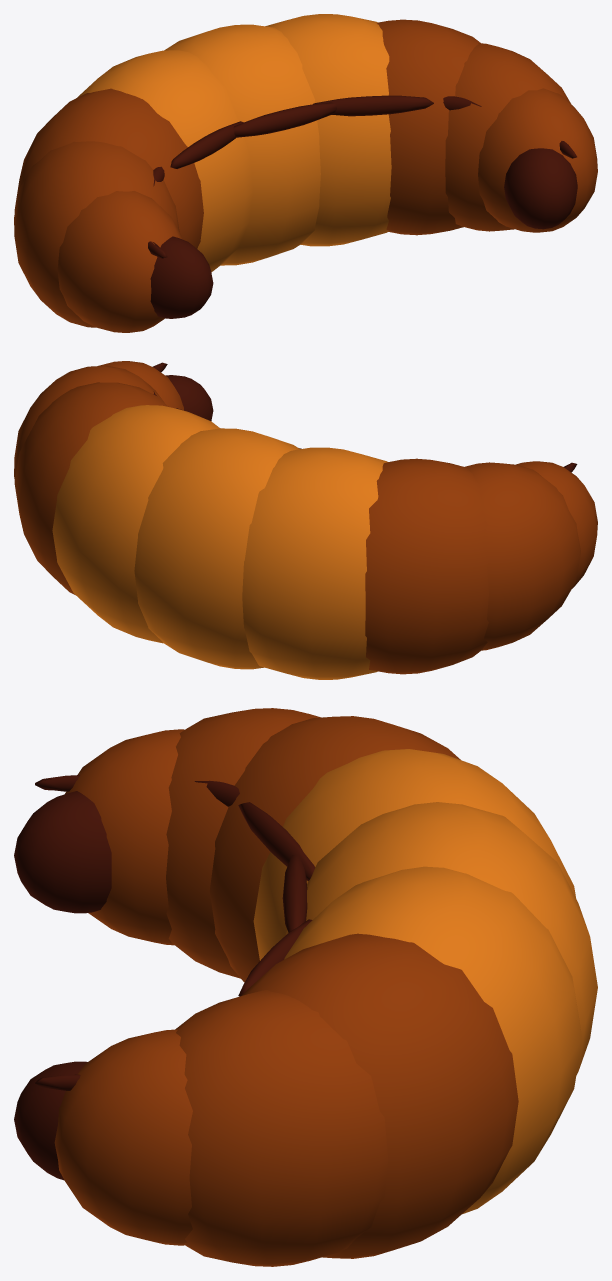
The model's file is croissant.glb.
3 views of the same model, one above another, from view 1: azimuth 30°, elevation 25°; view 2: azimuth 150°, elevation 25°; view 3: azimuth 270°, elevation 25° (orthographic). The views are drawn at different scales.
Visible parts, largest first — view 1: croissant; view 2: croissant; view 3: croissant.
Boxes of the visible parts, x1,y1,x2,y2 form: croissant: (14,14,597,332); croissant: (14,361,597,679); croissant: (14,708,597,1266).
Size of the model in its own units: 1 by 0.3943 by 0.6319.
1 material, 1 textured.
